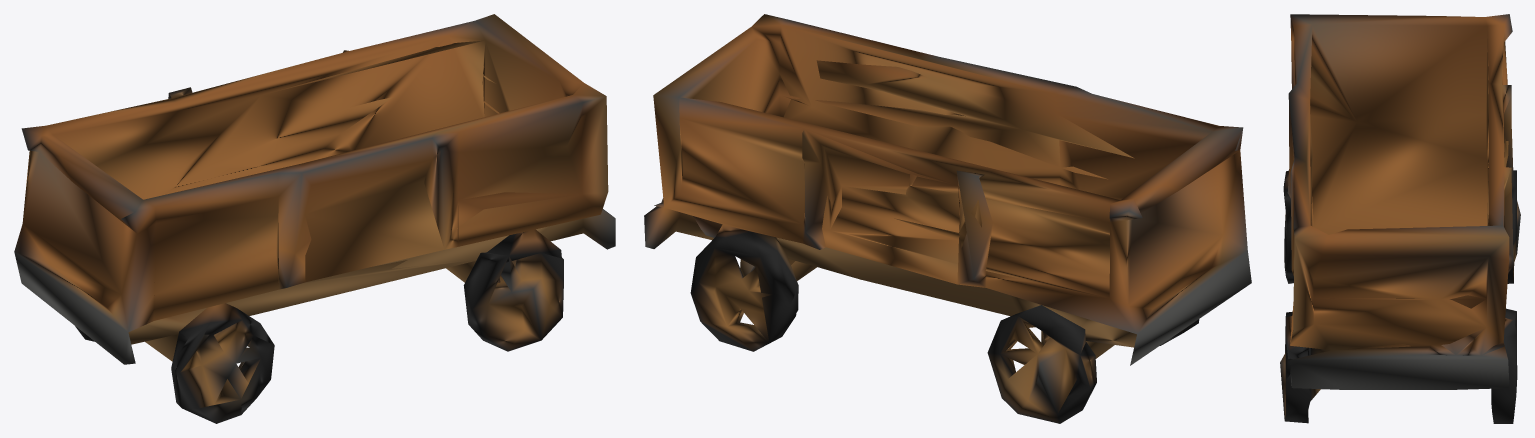
The model's file is gen3d-wagon-lod1.glb.
The picture shows the model from 3 angles, left to right: view 1: azimuth 30°, elevation 25°; view 2: azimuth 150°, elevation 25°; view 3: azimuth 270°, elevation 25°; orthographic projection. The views are drawn at different scales.
Parts seen in each view (by area): view 1: part_0; view 2: part_0; view 3: part_0.
Boxes of the visible parts, <box> form: part_0: <box>14,14,615,423</box>; part_0: <box>644,14,1251,423</box>; part_0: <box>1280,14,1520,423</box>.
Size of the model in its own units: 2.21 by 0.9926 by 0.9685.
